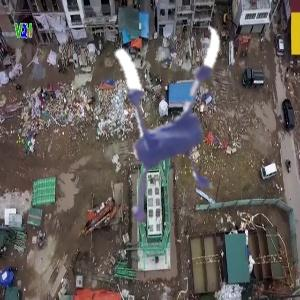drone: (56, 16, 268, 228)
